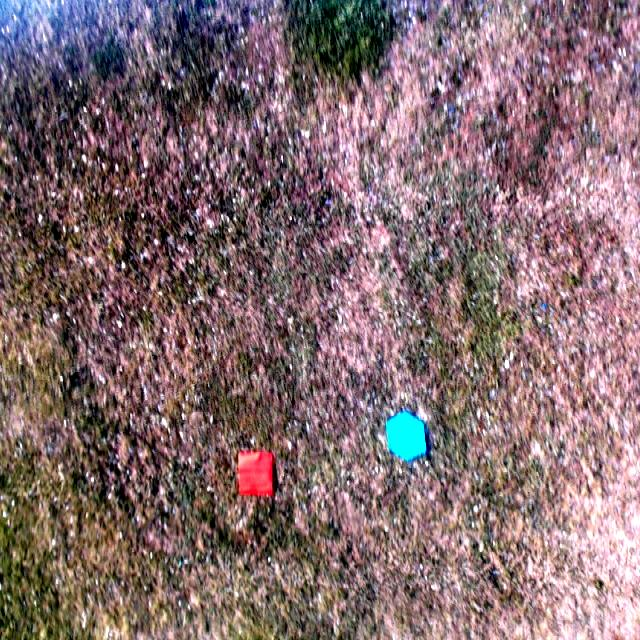blue_hexagon: (386, 410, 428, 462)
red_square: (237, 452, 273, 498)
